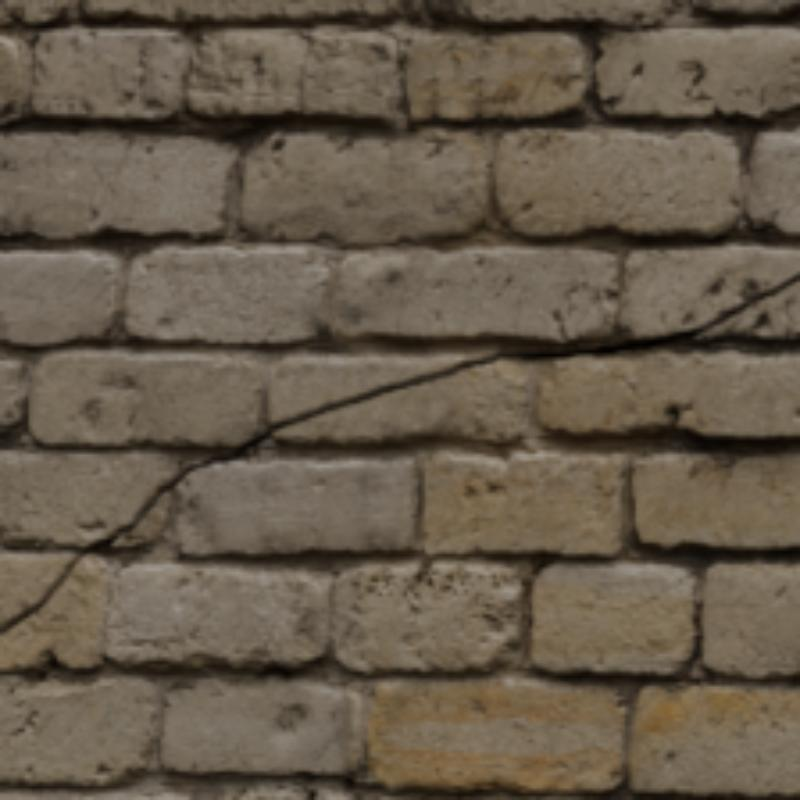pothole: (1, 459, 216, 630), (481, 276, 798, 362), (216, 362, 479, 459)
